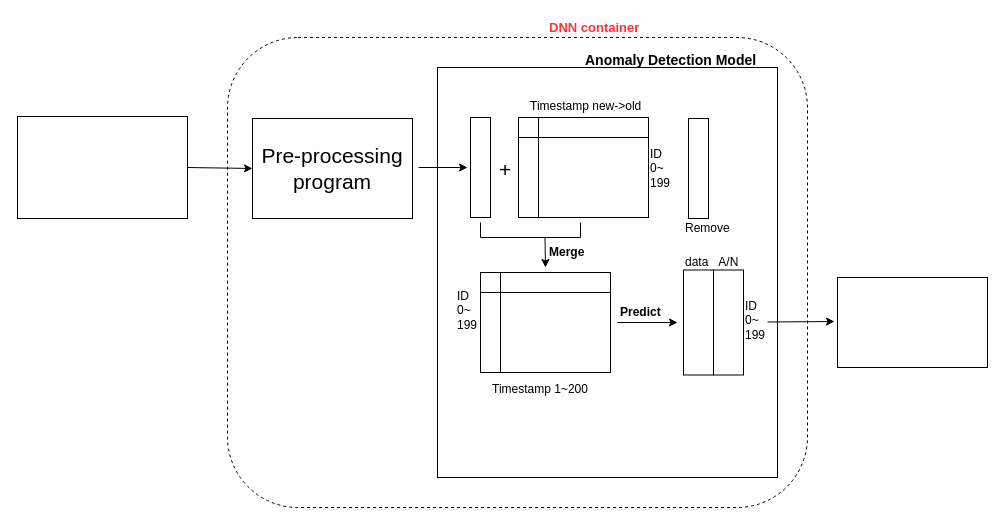
Some shapes in this 1005 by 525 pixel diagram are drawn without their labels. The centre of each missing label's shape, as x and y in pixels:
"BlockChain container" belongs at (912,322).
"Message management program" belongs at (102,167).
